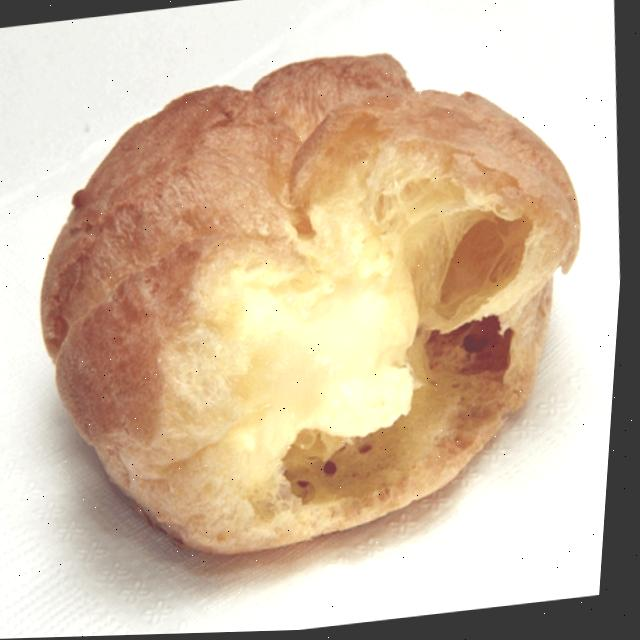炸货点心: (0, 5, 630, 596)
蛋糕甜品: (0, 5, 630, 596)
